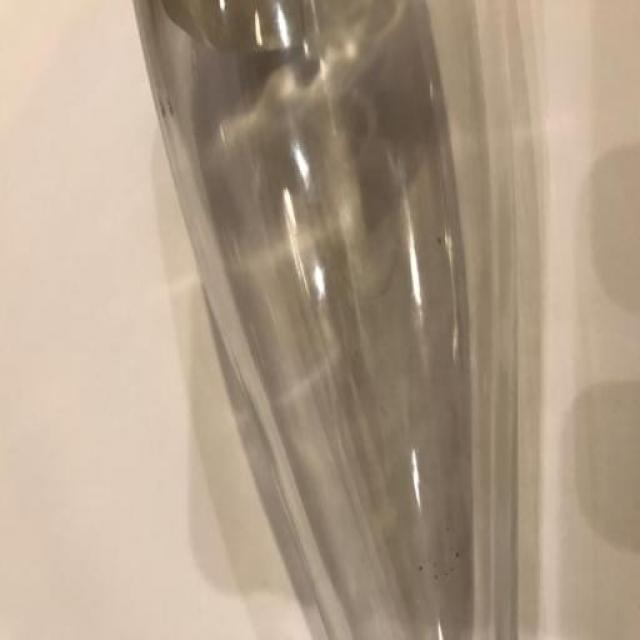glass: (136, 2, 478, 639)
